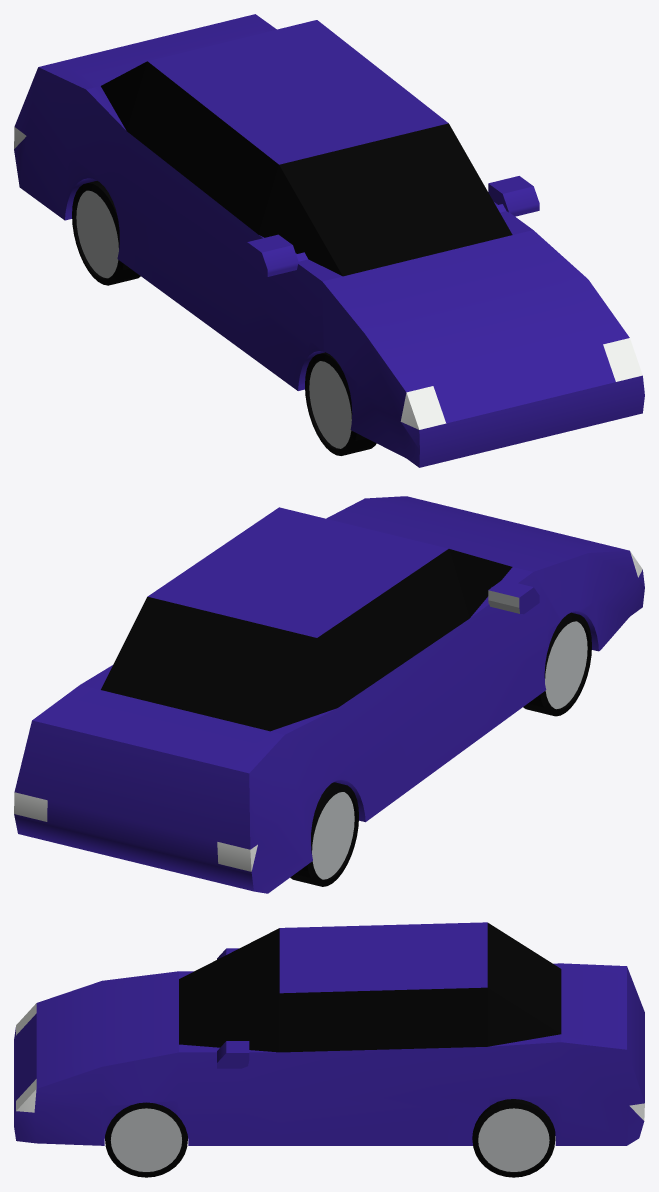
File: CarBigBlue.fbx
3 renders of one model, top to bottom at view 1: azimuth 30°, elevation 25°; view 2: azimuth 150°, elevation 25°; view 3: azimuth 270°, elevation 25°, orthographic. The views are drawn at different scales.
Visible parts, largest first — view 1: Cube.009, Cylinder.012, Cylinder.013, Cube.007, Cube.008; view 2: Cube.009, Cylinder.012, Cylinder.013, Cube.007; view 3: Cube.009, Cylinder.015, Cylinder.014, Cube.008.
Part boxes in pixels (box(x1,y1,x2,y2)): Cube.009: box(14, 14, 644, 467); Cylinder.012: box(72, 181, 140, 285); Cylinder.013: box(305, 352, 376, 455); Cube.007: box(247, 234, 307, 276); Cube.008: box(488, 176, 539, 216); Cube.009: box(14, 496, 644, 893); Cylinder.012: box(290, 782, 358, 886); Cylinder.013: box(523, 612, 591, 716); Cube.007: box(488, 579, 539, 614); Cube.009: box(14, 922, 644, 1145); Cylinder.015: box(472, 1099, 555, 1177); Cylinder.014: box(105, 1102, 187, 1177); Cube.008: box(217, 1041, 249, 1068).
Bounding box in the file's own units: 438 × 346 × 1116.
